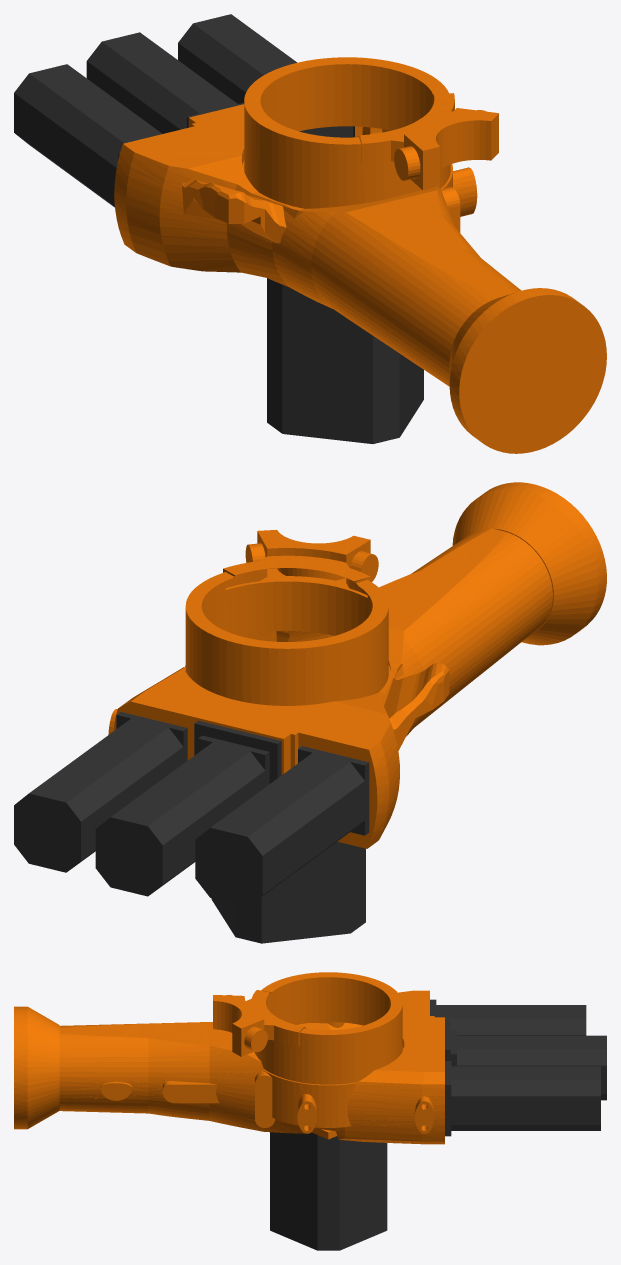
File: Eslabon3.obj
3 renders of one model, top to bottom at view 1: azimuth 30°, elevation 25°; view 2: azimuth 150°, elevation 25°; view 3: azimuth 270°, elevation 25°, orthographic. The views are drawn at different scales.
Visible parts, largest first — view 1: default001, default; view 2: default001, default; view 3: default001, default.
Part boxes in pixels (x1=…): default001: x1=14, y1=14, x2=606, y2=453; default: x1=267, y1=278, x2=423, y2=443; default001: x1=14, y1=482, x2=606, y2=906; default: x1=211, y1=841, x2=365, y2=943; default001: x1=14, y1=972, x2=606, y2=1144; default: x1=270, y1=1132, x2=387, y2=1250.
Bounding box in the file's own units: 0.2874 × 0.3244 × 0.7582.
